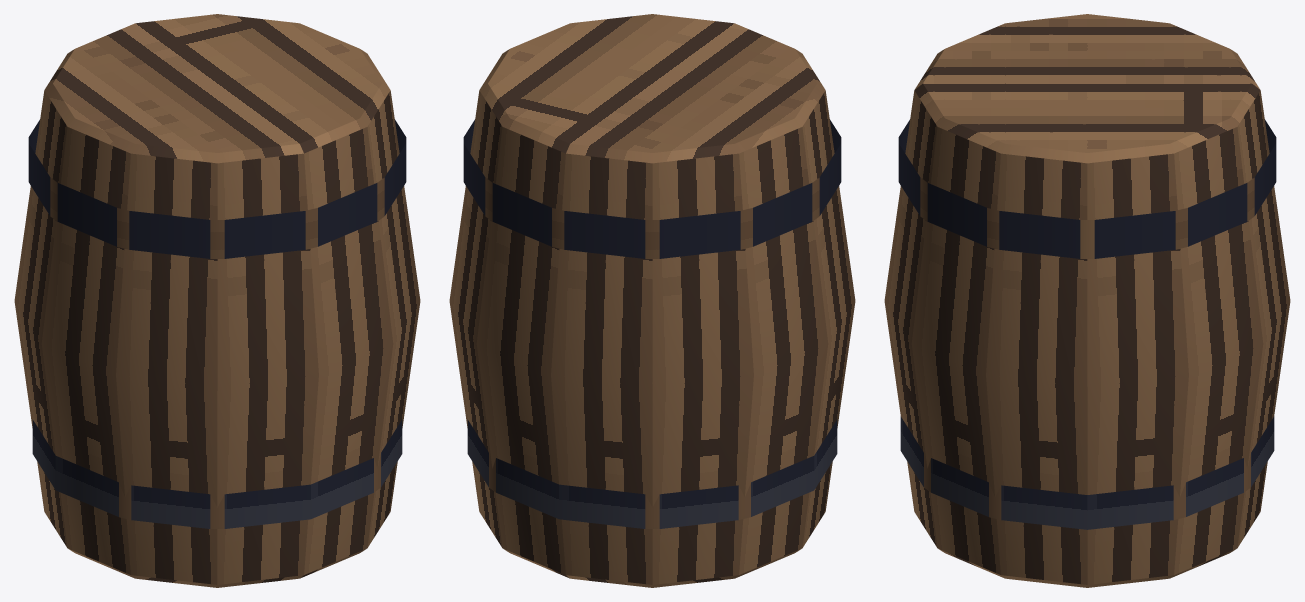
Rendered from barrel_1.glb.
The picture shows the model from 3 angles, left to right: view 1: azimuth 30°, elevation 25°; view 2: azimuth 150°, elevation 25°; view 3: azimuth 270°, elevation 25°; orthographic projection.
Parts seen in each view (by area): view 1: barrel_2; view 2: barrel_2; view 3: barrel_2.
Part boxes in pixels (x1,y1,x2,y2): barrel_2: (14,14,420,587); barrel_2: (449,14,855,587); barrel_2: (884,14,1290,587).
Bounding box in the file's own units: 0.66 × 0.78 × 0.66.
2 materials, 2 textured.
